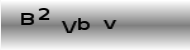2: (37, 7, 50, 21)
Q: (20, 12, 35, 26)
V: (60, 19, 78, 35)
b: (77, 17, 91, 31)
v: (102, 18, 117, 30)
